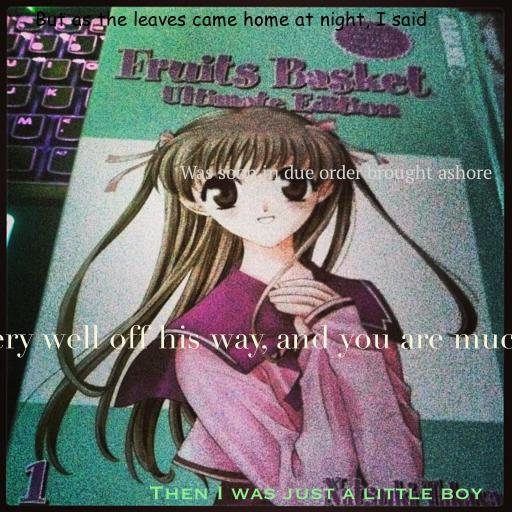Comic Sans MS: (35, 10, 427, 31)
Copperplate: (149, 485, 483, 500)
Didot: (0, 324, 512, 358)
PT Serif: (180, 164, 492, 183)
